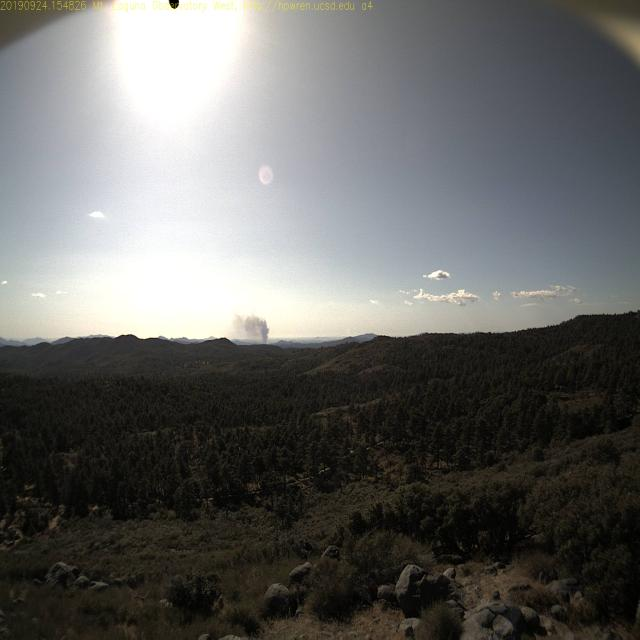smoke: (234, 311, 272, 349)
